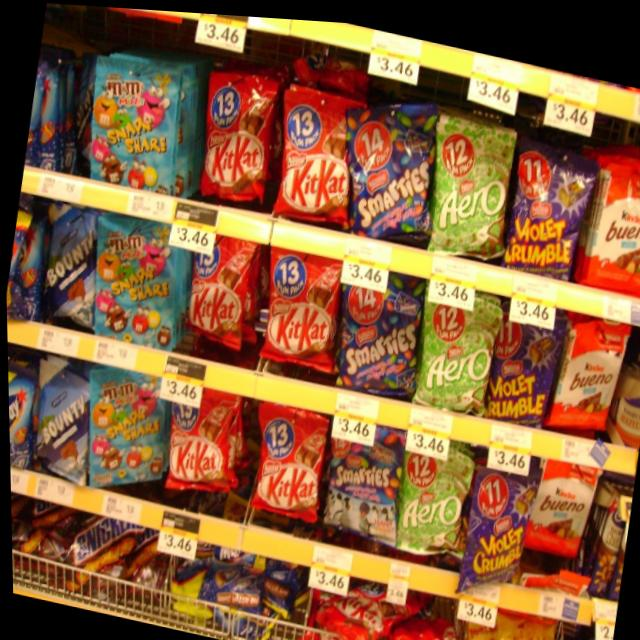q280: (181, 59, 284, 212), (151, 371, 256, 516), (270, 71, 369, 221), (254, 222, 349, 374), (247, 395, 344, 534), (179, 221, 270, 358)
